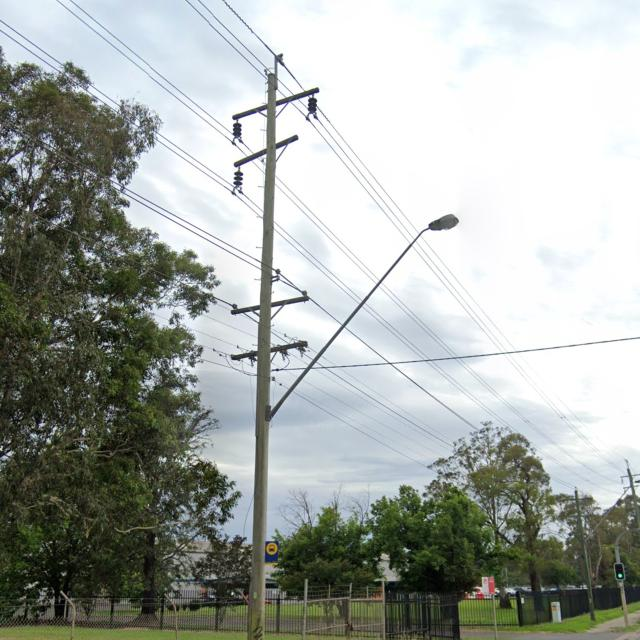HV-transmission: (232, 53, 320, 196)
crossarm: (232, 86, 321, 121), (234, 135, 300, 167), (231, 296, 309, 316), (230, 341, 308, 360)
streetlight: (272, 213, 460, 418)
timber-pole: (250, 74, 279, 638)
